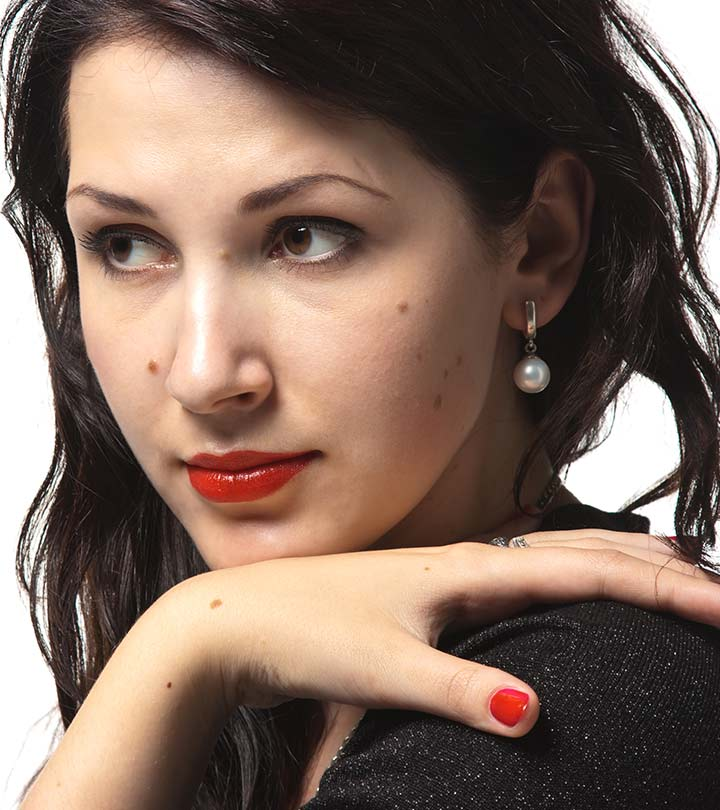mole: (201, 591, 232, 619), (421, 389, 447, 414), (390, 295, 417, 319), (137, 354, 164, 377)
